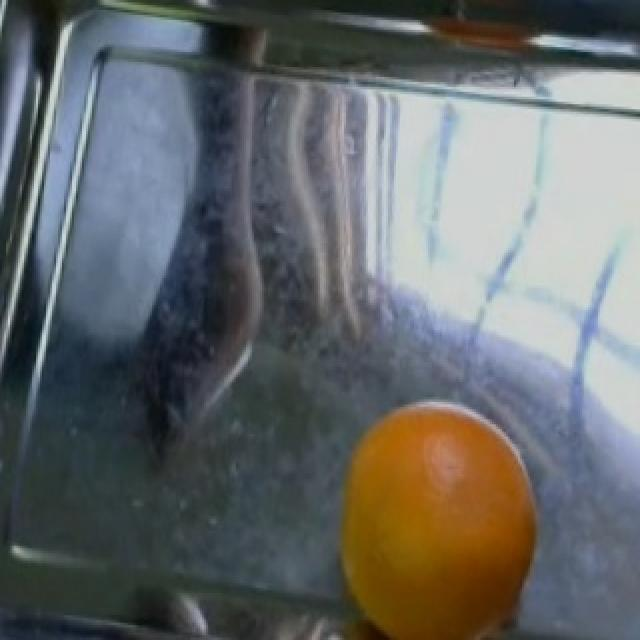Fruit: (320, 397, 562, 640)
